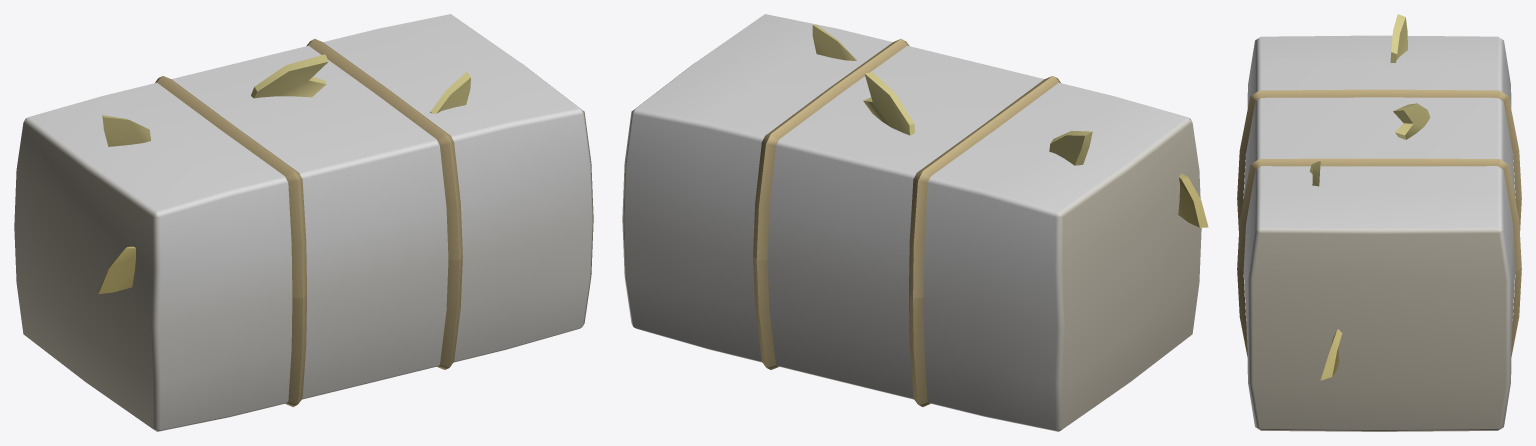
The model's file is HayBales.glb.
The picture shows the model from 3 angles, left to right: view 1: azimuth 30°, elevation 25°; view 2: azimuth 150°, elevation 25°; view 3: azimuth 270°, elevation 25°; orthographic projection. The views are drawn at different scales.
Parts seen in each view (by area): view 1: HayBales; view 2: HayBales; view 3: HayBales.
Part boxes in pixels (bbox=[...]): HayBales: bbox=[14, 14, 593, 431]; HayBales: bbox=[622, 14, 1208, 431]; HayBales: bbox=[1237, 14, 1521, 431].
Bounding box in the file's own units: 132 × 67.25 × 69.74.
